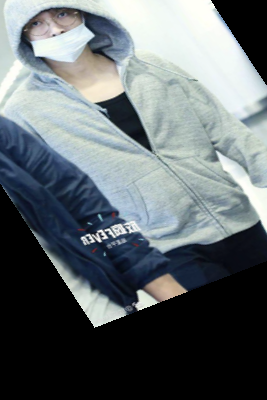mask_weared_incorrect: (5, 1, 110, 68)
